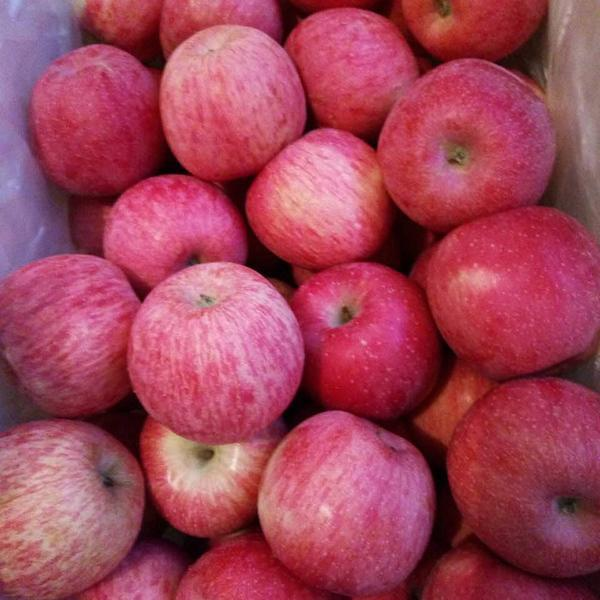apple: (437, 376, 600, 583), (413, 206, 597, 385), (127, 262, 301, 447), (375, 57, 556, 232), (259, 409, 434, 588), (287, 262, 444, 426), (1, 416, 144, 594), (245, 126, 400, 275), (30, 41, 176, 194), (161, 26, 307, 179), (1, 253, 139, 410), (100, 173, 252, 293), (287, 7, 416, 140), (141, 416, 276, 540), (396, 1, 542, 64), (159, 1, 285, 56)
